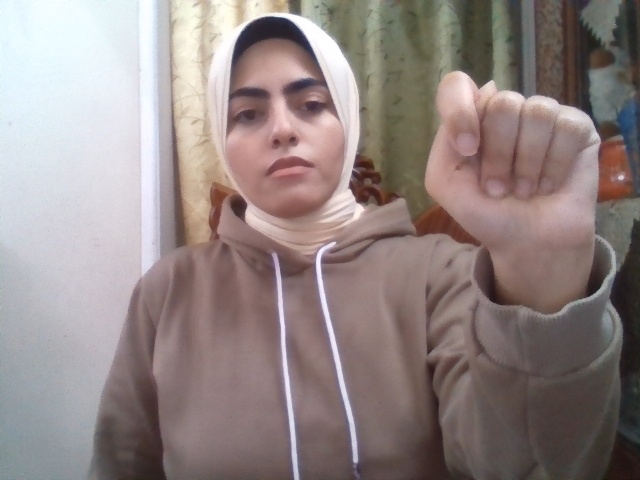T: (423, 71, 601, 248)
